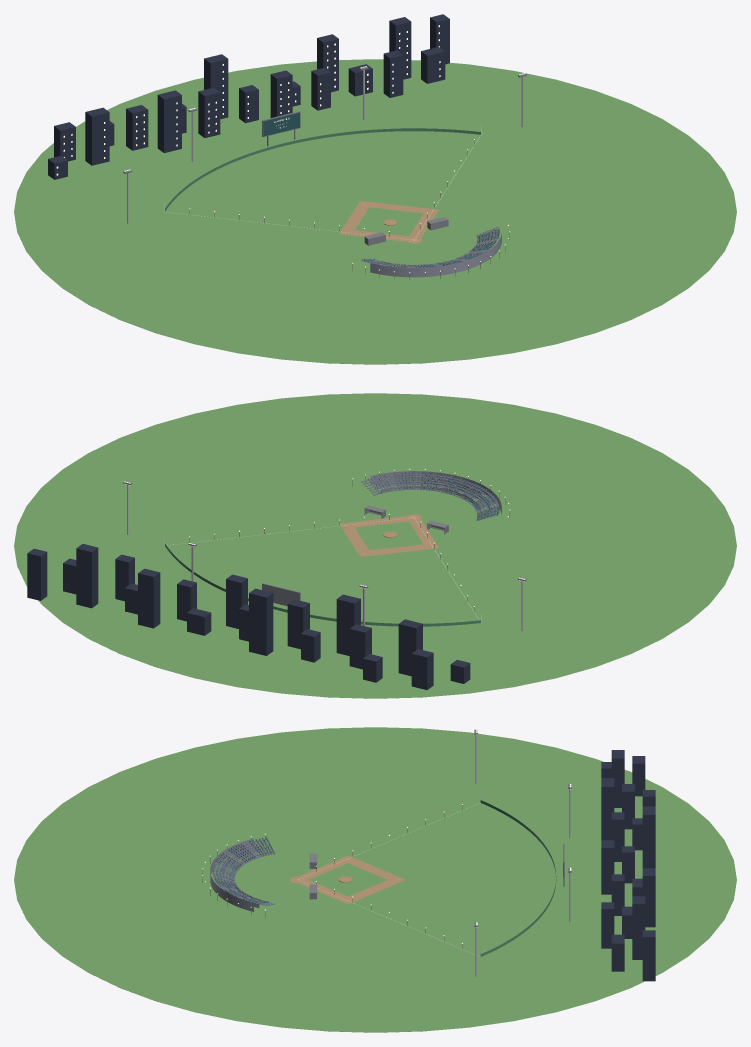
The model's file is lantern-field.glb.
The picture shows the model from 3 angles, top to bottom: view 1: azimuth 30°, elevation 25°; view 2: azimuth 150°, elevation 25°; view 3: azimuth 270°, elevation 25°; orthographic projection.
Parts seen in each view (by area): view 1: grass_outfield, park_batch_mat_skyline, infield_dirt, infield_grass, stands_tier_2, outfield_fence, park_batch_mat_park_seating, park_batch_mat_park_teal; view 2: grass_outfield, park_batch_mat_skyline, park_batch_mat_park_concrete, infield_dirt, infield_grass, park_batch_mat_park_seating, stands_tier_2, outfield_fence; view 3: grass_outfield, park_batch_mat_skyline, infield_dirt, infield_grass, park_batch_mat_park_concrete, park_batch_mat_park_seating, stands_tier_2, outfield_fence.
Boxes of the visible parts, x1,y1,x2,y2 form: grass_outfield: (14,59,736,364); park_batch_mat_skyline: (48,14,449,179); infield_dirt: (339,200,438,241); infield_grass: (355,207,423,236); stands_tier_2: (370,233,501,277); outfield_fence: (165,128,480,211); park_batch_mat_park_seating: (362,229,499,267); park_batch_mat_park_teal: (263,112,299,136); grass_outfield: (14,393,736,698); park_batch_mat_skyline: (27,544,470,689); park_batch_mat_park_concrete: (361,473,499,520); infield_dirt: (339,516,438,556); infield_grass: (355,521,423,550); park_batch_mat_park_seating: (367,472,499,519); stands_tier_2: (370,471,501,514); outfield_fence: (165,544,480,626); grass_outfield: (14,727,736,1032); park_batch_mat_skyline: (601,750,655,981); infield_dirt: (298,855,405,904); infield_grass: (309,863,387,896); park_batch_mat_park_concrete: (212,839,275,905); park_batch_mat_park_seating: (213,837,274,903); stands_tier_2: (210,838,253,911); outfield_fence: (480,800,556,956).
Bounding box in the file's own units: 280 × 25.04 × 280.
